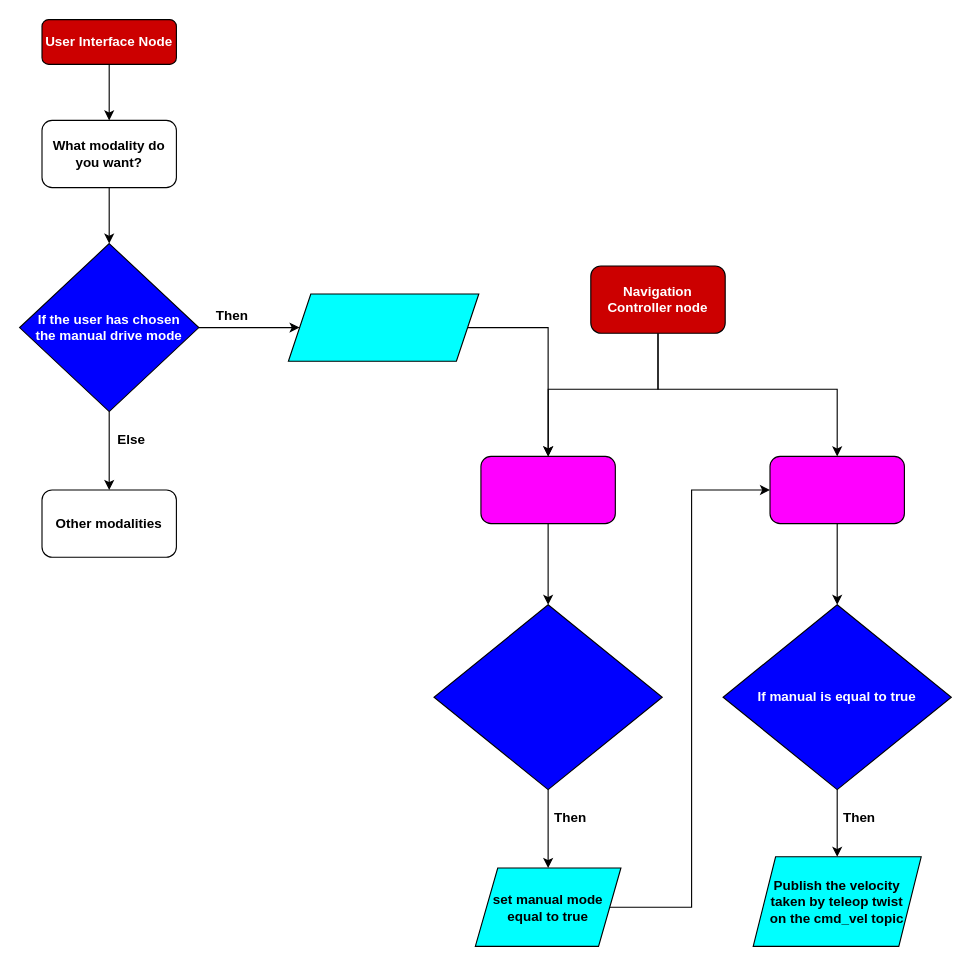
This 971x967 diagram has some shape labels left out. The centre of each missing label's shape, as x and y in pixels:
"If the command passed by the user interface is 'm'" belongs at point (547, 697).
"Interface service" belongs at point (547, 489).
"pass the manual mode command ('m') using the interface custom service" belongs at point (383, 327).
"Velocity control" belongs at point (836, 489).
